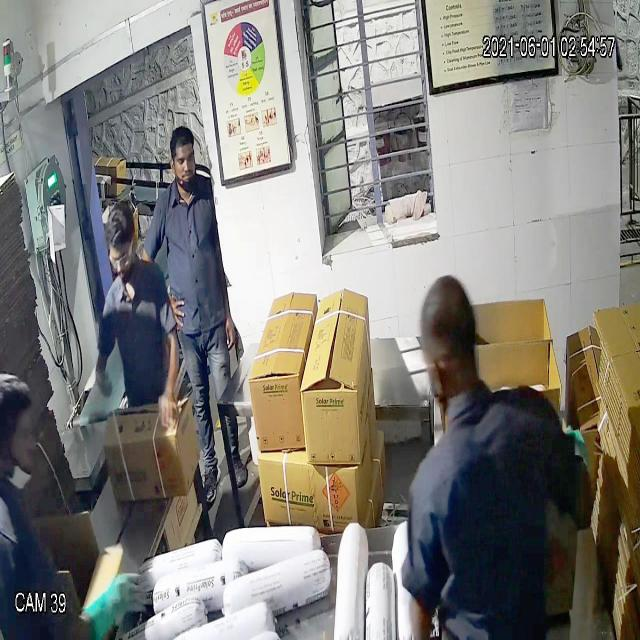glasses: (103, 236, 139, 274)
